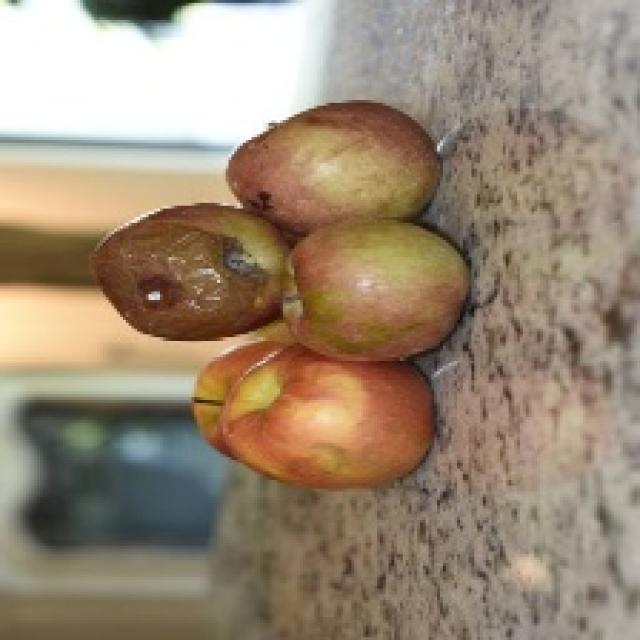100-_ripeness: (285, 217, 469, 361), (235, 367, 437, 484), (236, 100, 450, 210)
rotten_apple: (97, 204, 279, 340)
